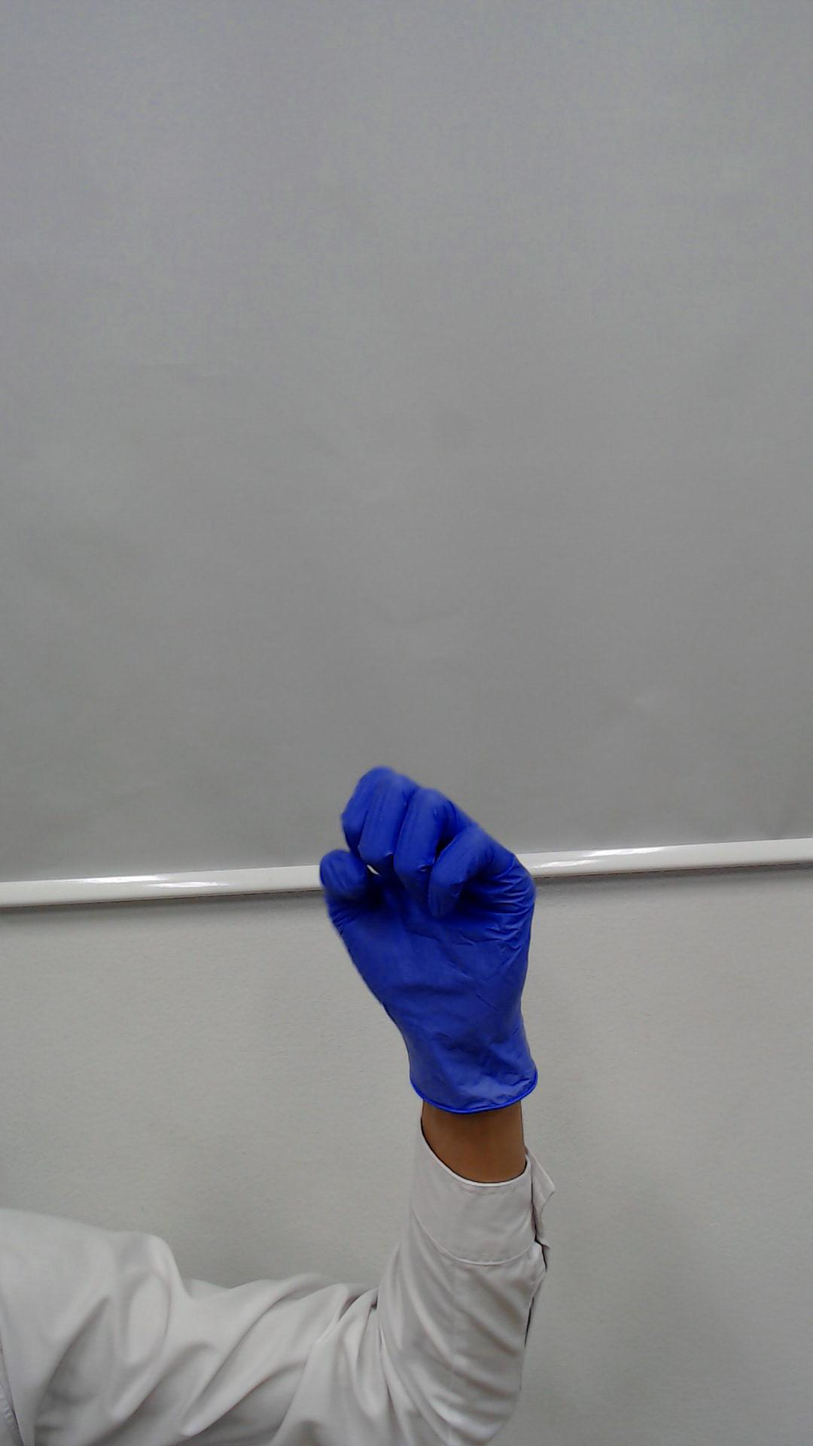gloves: (292, 734, 564, 1049)
